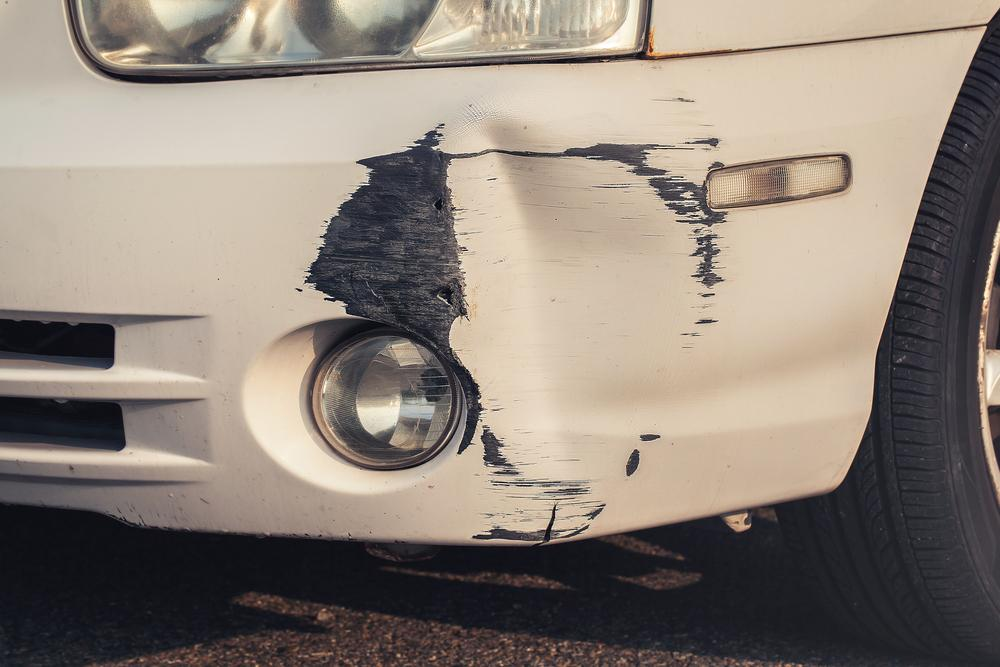crack: (531, 497, 558, 546)
dent: (437, 114, 709, 481)
scratch: (555, 88, 733, 308), (295, 120, 460, 352), (470, 426, 626, 546)
